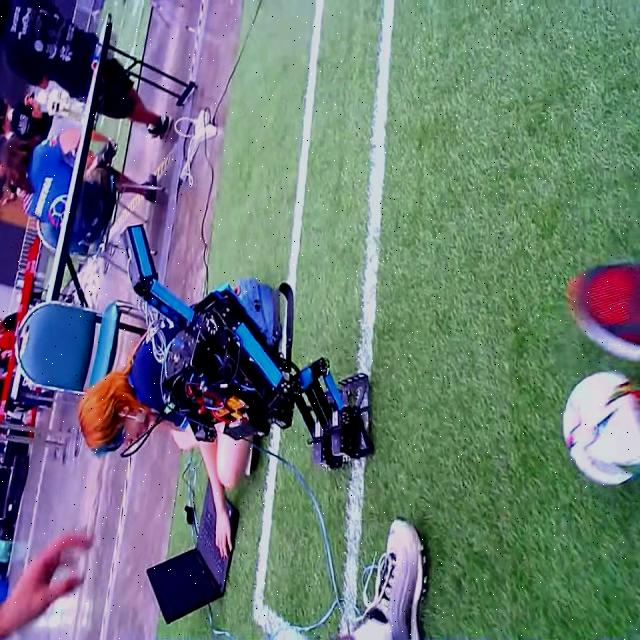ball: (562, 371, 640, 488)
